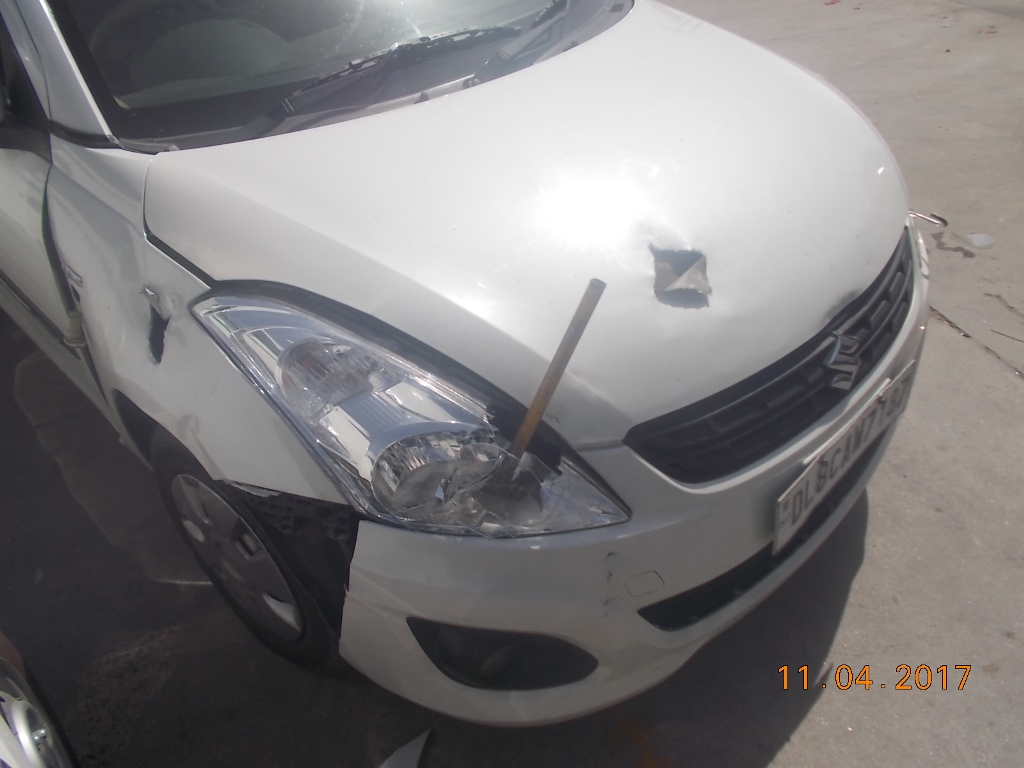Tear: (324, 520, 372, 639), (645, 237, 715, 316), (140, 287, 183, 366)
